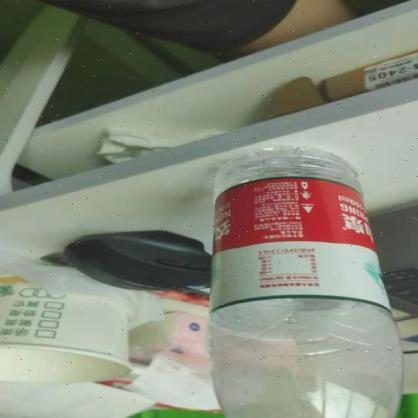bottle: (205, 146, 406, 415)
label: (190, 174, 396, 312)
